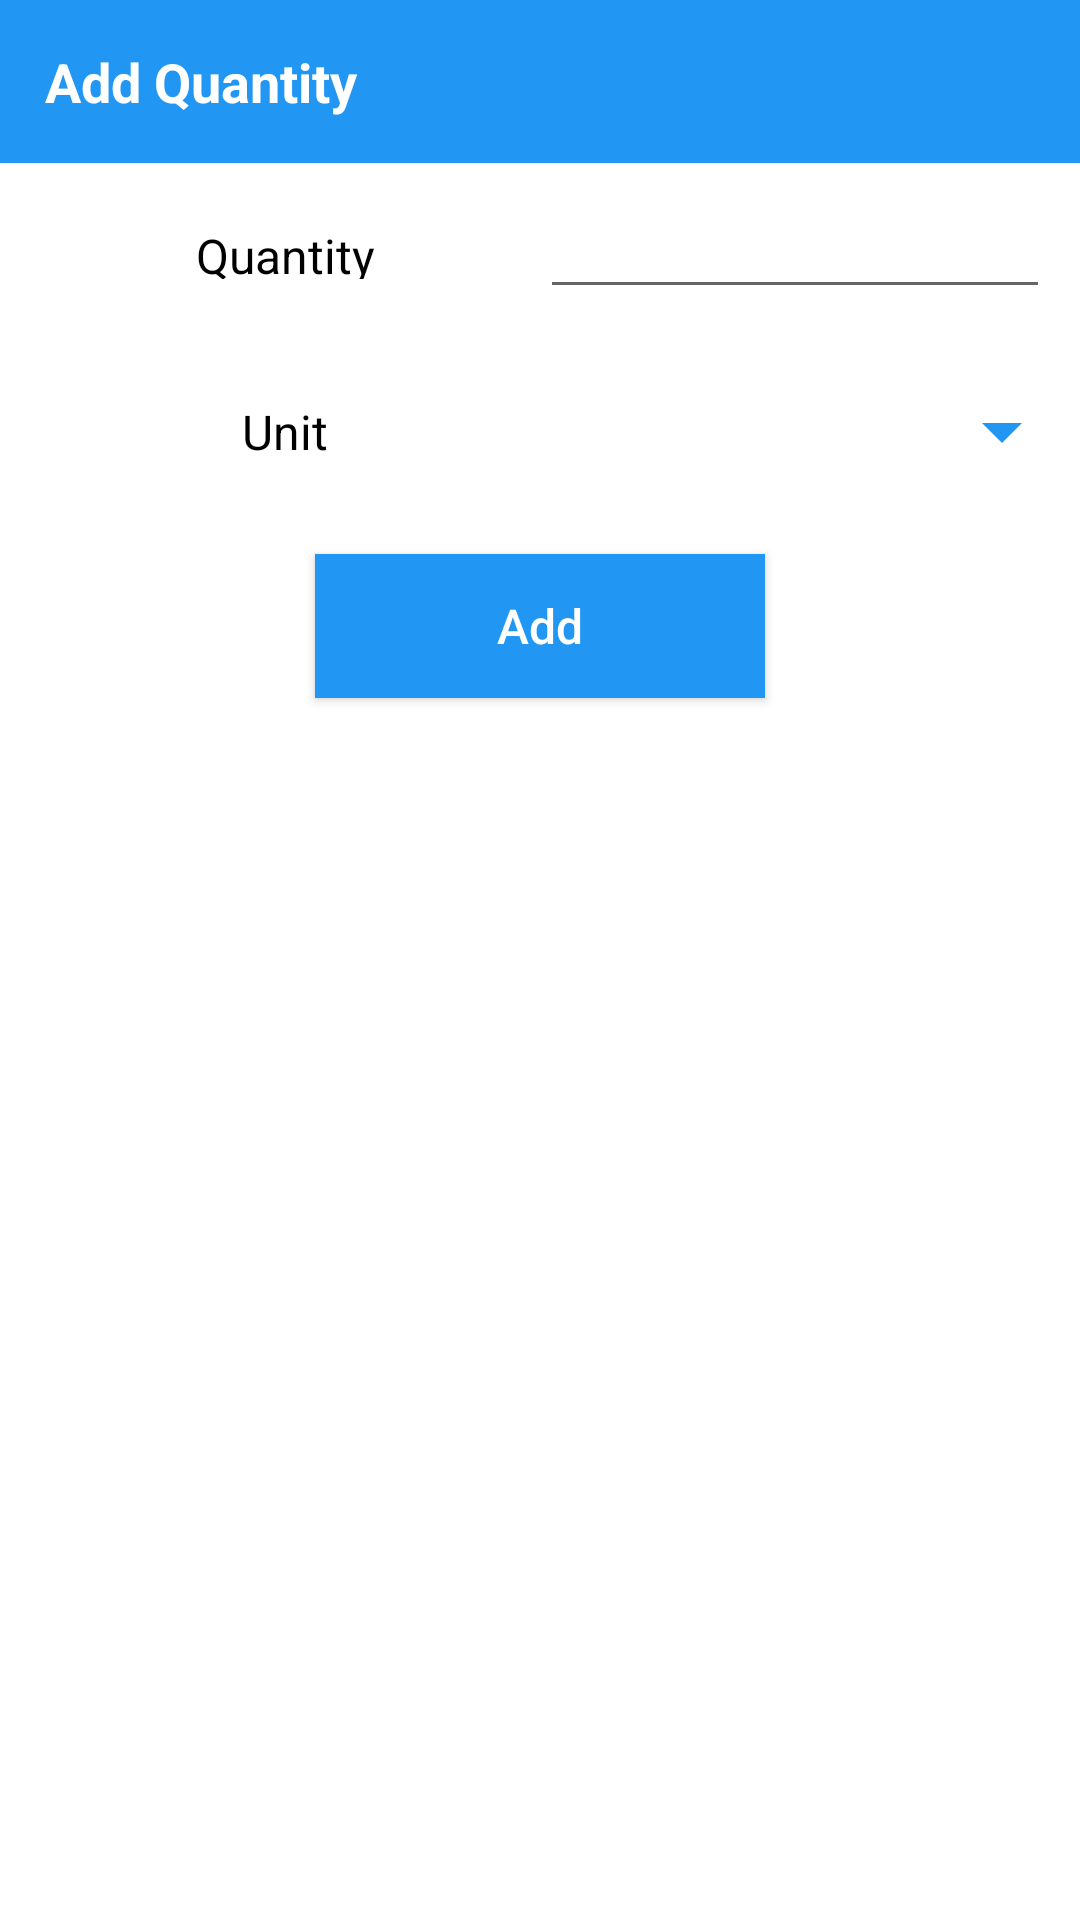

Locate icon controls on the screen. Image size 1080x1920, boxes as box=[x1, y1, x2, y2].
arrow drop down: box=[982, 423, 1022, 443]
